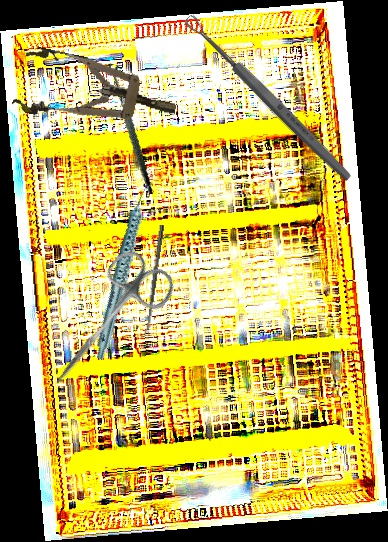Handpiece: (61, 180, 188, 361)
Hook Surgical: (78, 61, 176, 195)
Iris Scissors: (32, 242, 181, 407)
Speculum: (10, 43, 183, 144)
Surgical Spoon: (182, 12, 355, 184), (143, 224, 165, 337)
